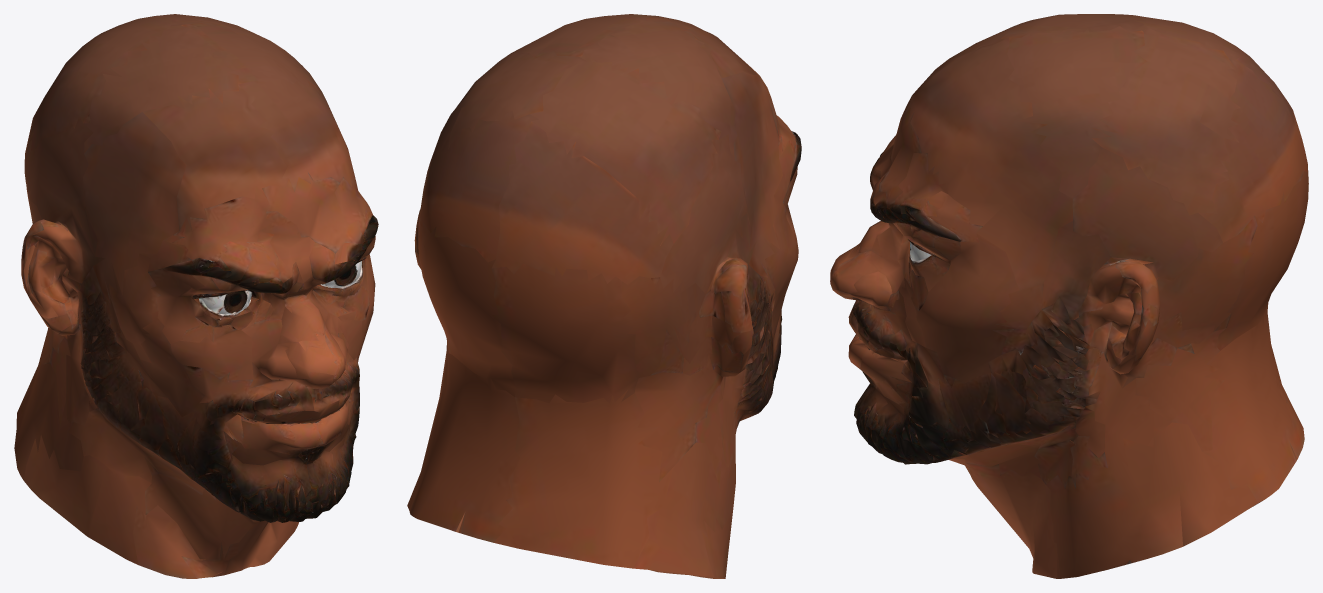
The model's file is hdHumanDark.b8856d75fa.glb.
3 renders of one model, left to right at view 1: azimuth 30°, elevation 25°; view 2: azimuth 150°, elevation 25°; view 3: azimuth 270°, elevation 25°, orthographic. The views are drawn at different scales.
Bounding box in the file's own units: 1.21 × 1.9 × 1.56.
1 material, 1 textured.
